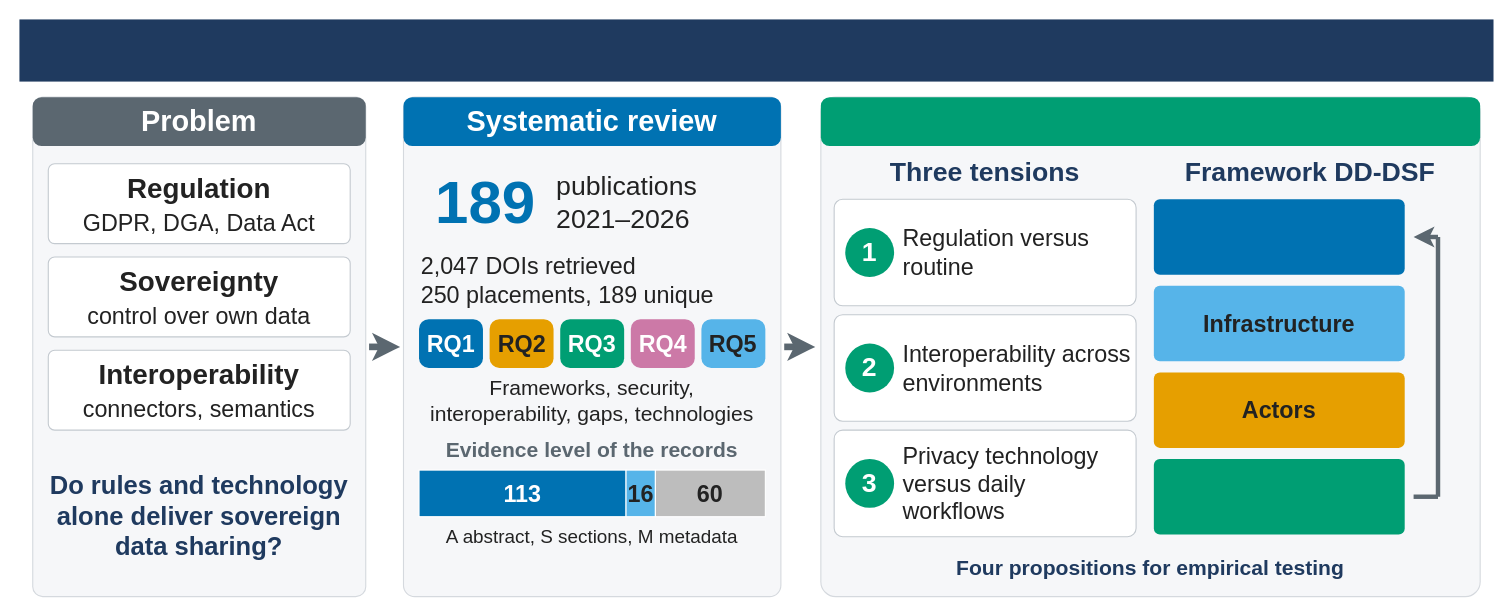
Image size: 1512x616. Some labels were removed from this diagram. Each missing label, with the centre of its shape:
"Application and value" goes at point (1278, 496).
"Data sovereignty and open innovation in data spaces: what 189 publications show" goes at point (756, 50).
"Findings" goes at point (1150, 121).
"Governance and regulation" goes at point (1278, 236).
